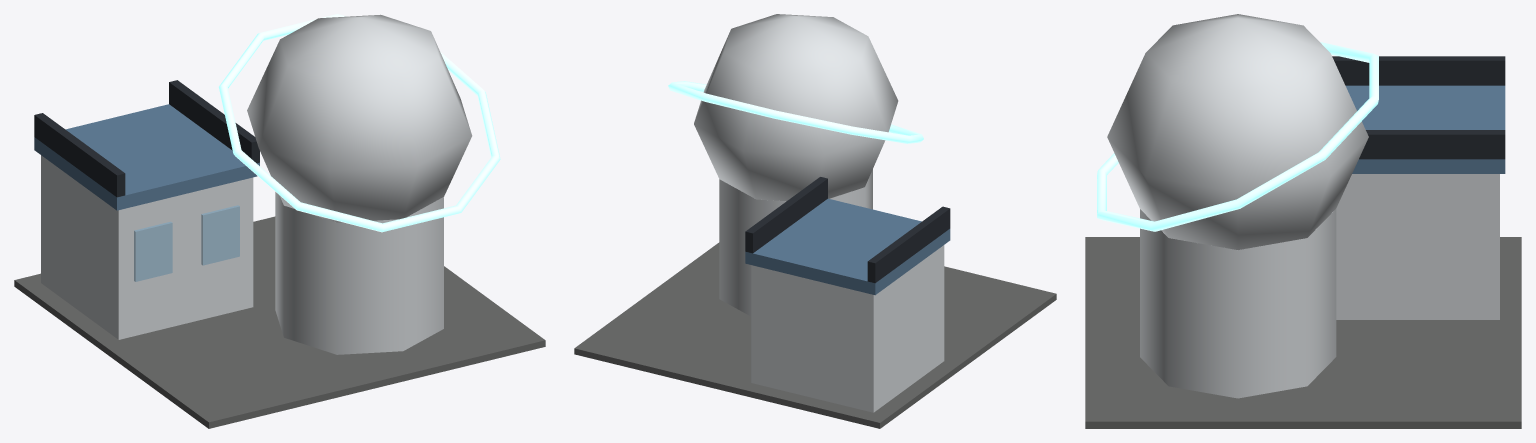
The model's file is bld_special_radar_a09_lod1.glb.
3 renders of one model, left to right at view 1: azimuth 30°, elevation 25°; view 2: azimuth 150°, elevation 25°; view 3: azimuth 270°, elevation 25°, orthographic. The views are drawn at different scales.
Parts seen in each view (by area): view 1: body; view 2: body; view 3: body.
Boxes of the visible parts, bbox=[...] form: body: bbox=[14, 14, 545, 428]; body: bbox=[574, 14, 1056, 428]; body: bbox=[1085, 14, 1521, 428].
Size of the model in its own units: 8.2 by 7 by 8.
